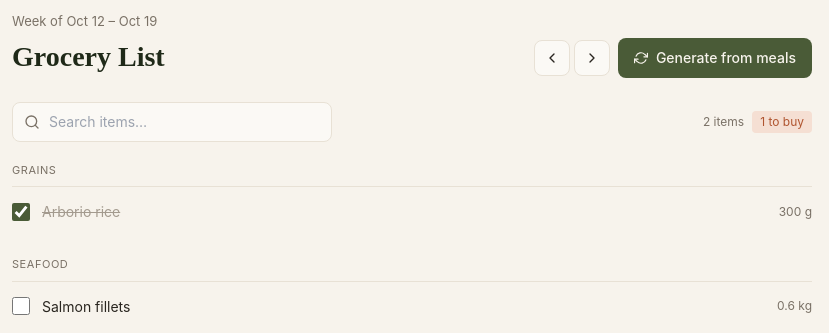
it: GroceryListPage › filters items by search
Expected: the text "Salmon fillets" is shown, [42,296,130,316]
Type "rice" into the search field with placeholder "Search items…".
click(172, 122); type("rice")  # box [12,102,332,142]
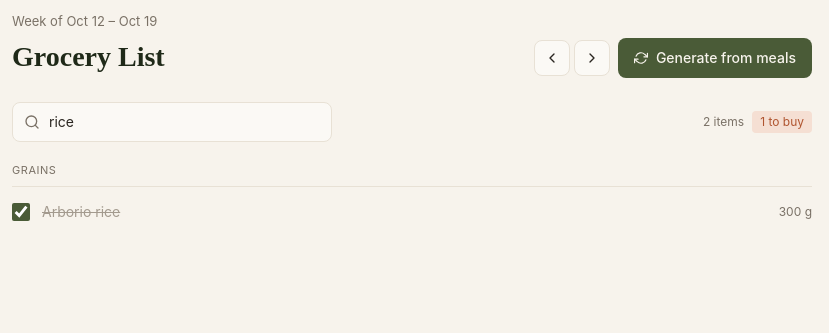
Expected: the text "Arborio rice" is shown, [42,201,120,222]
Expected: the text "Salmon fillets" is gone
